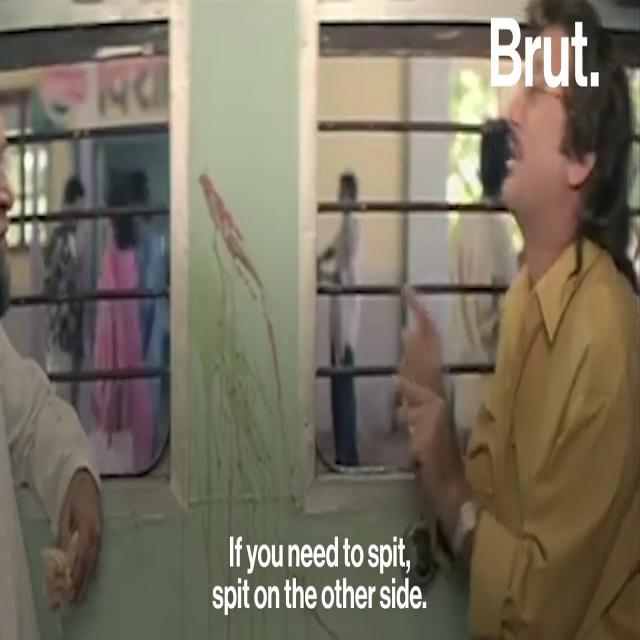spit: (172, 145, 328, 640), (192, 146, 284, 503)
